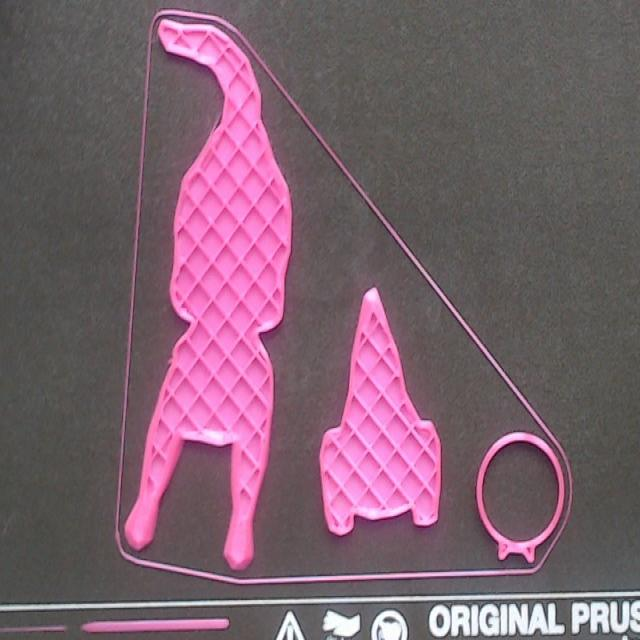mistake: (214, 116, 221, 127)
